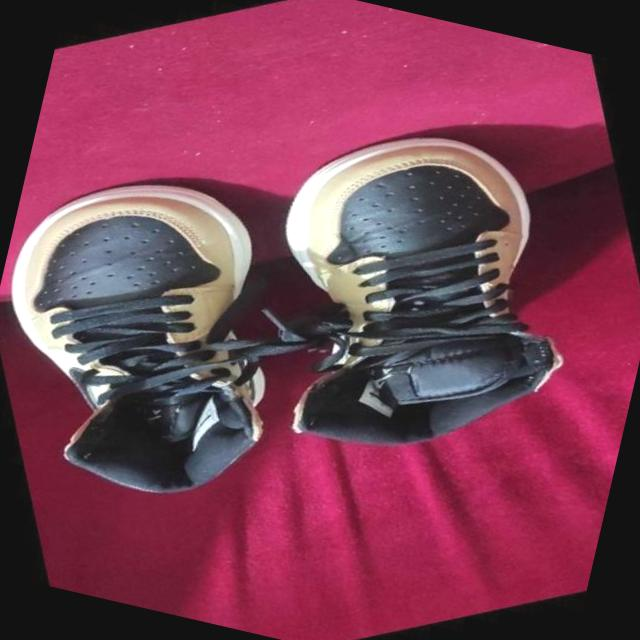nike_fake_jordan: (178, 55, 640, 525), (0, 112, 369, 572)
